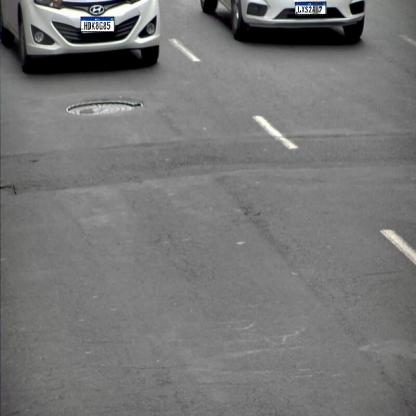PlacaM: (80, 17, 115, 32), (295, 2, 326, 15)
